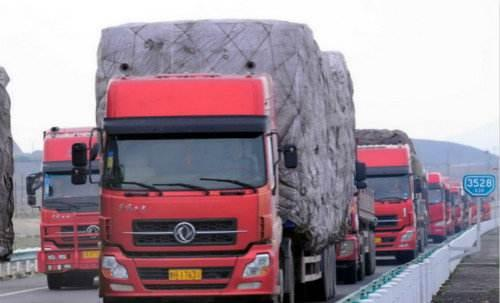chaozhai: (91, 22, 355, 303), (357, 127, 427, 261)
